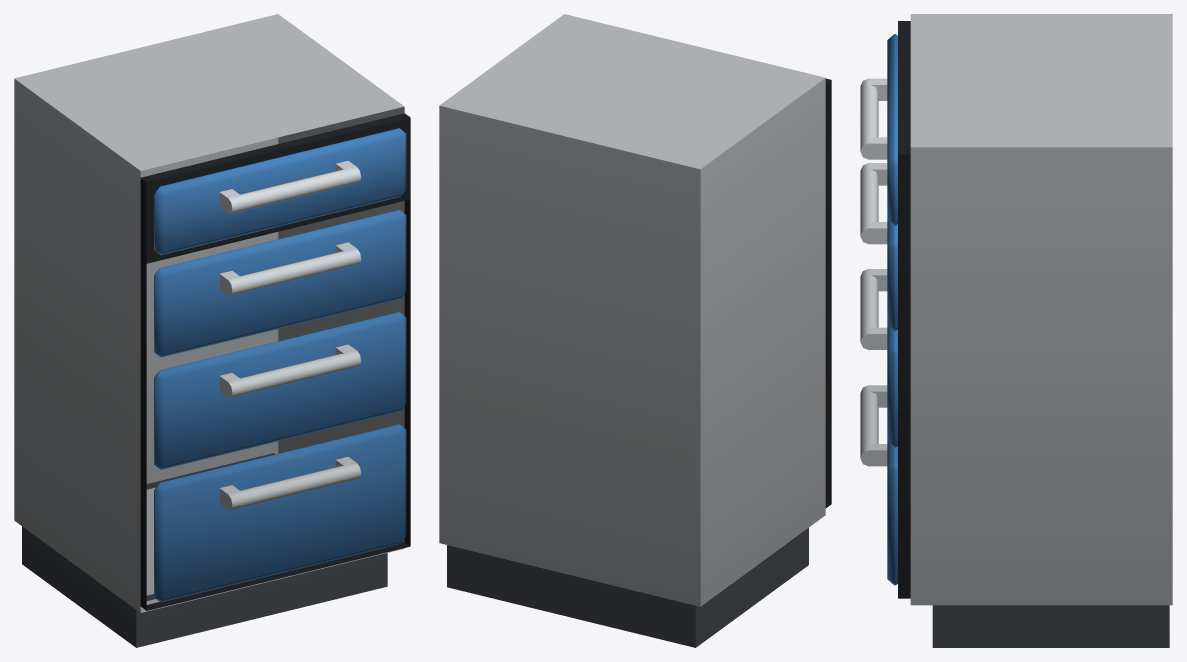
The model's file is SM_GarageCab_Base_Drawers_05.glb.
3 views of the same model, side by side, from view 1: azimuth 30°, elevation 25°; view 2: azimuth 150°, elevation 25°; view 3: azimuth 270°, elevation 25° (orthographic). The views are drawn at different scales.
Visible parts, largest first — view 1: SM_GarageCab_Base_Drawers_05; view 2: SM_GarageCab_Base_Drawers_05; view 3: SM_GarageCab_Base_Drawers_05.
Boxes of the visible parts, left/top/right/bottom form: SM_GarageCab_Base_Drawers_05: left=14, top=14, right=410, bottom=647; SM_GarageCab_Base_Drawers_05: left=439, top=14, right=831, bottom=647; SM_GarageCab_Base_Drawers_05: left=860, top=14, right=1172, bottom=647.
Size of the model in its own units: 0.5 by 0.88 by 0.4945.
Materials: 1 (1 with a texture image).
